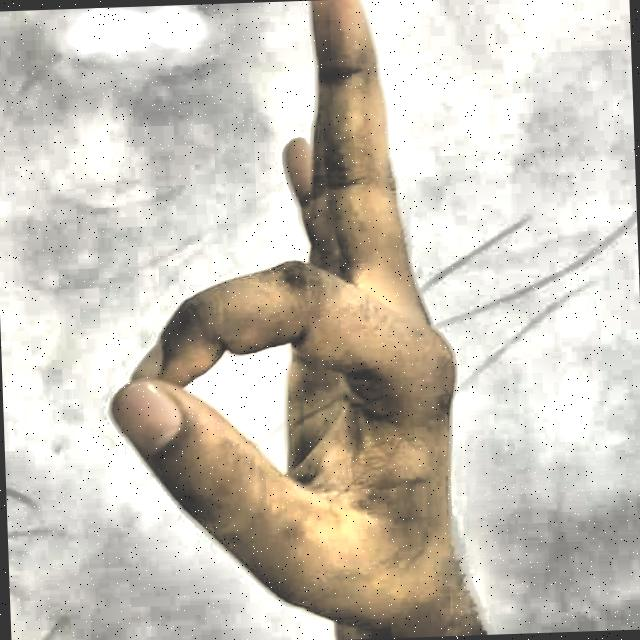Ca: (71, 0, 575, 640)
